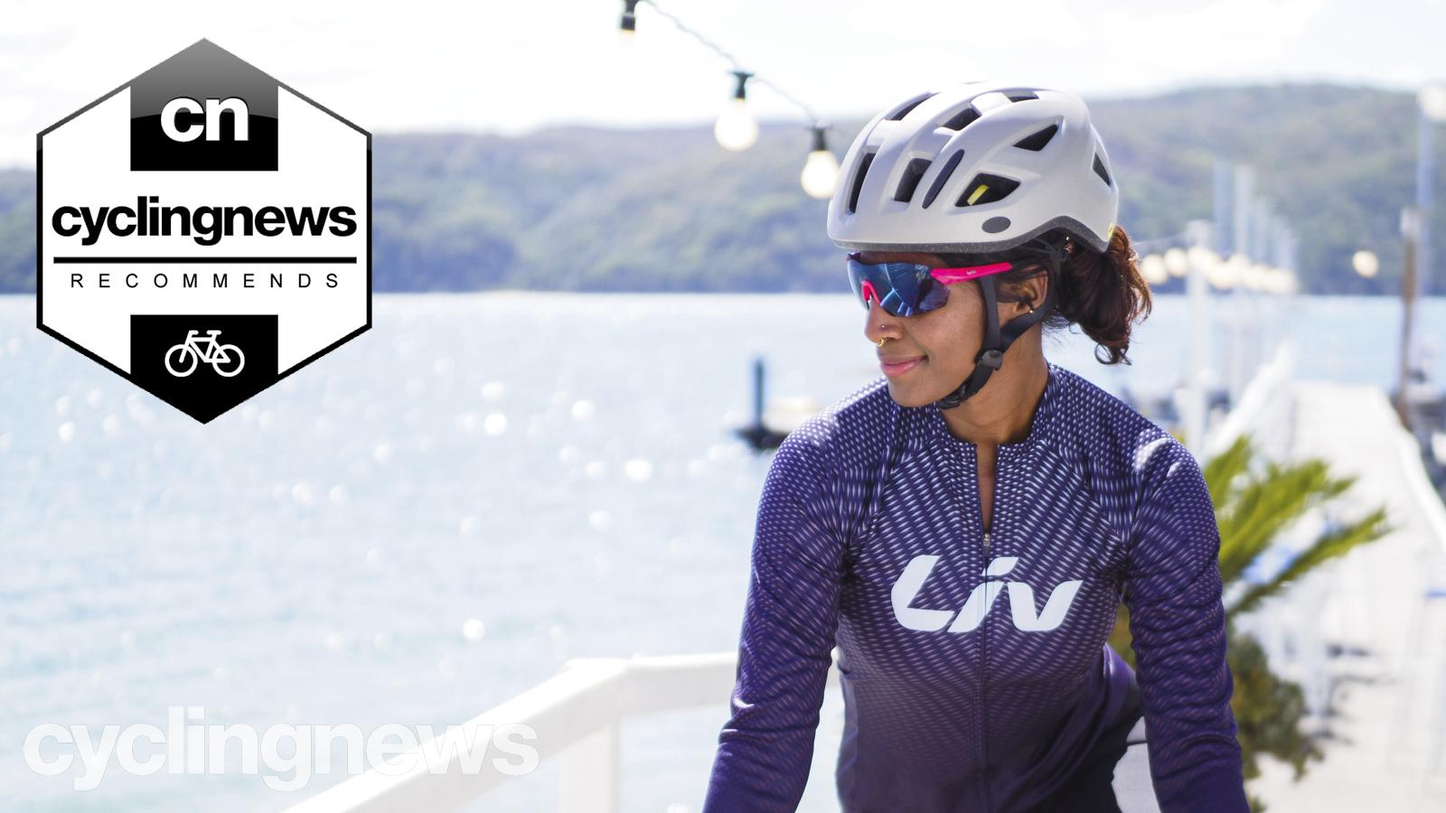helmet: (773, 36, 1146, 396)
